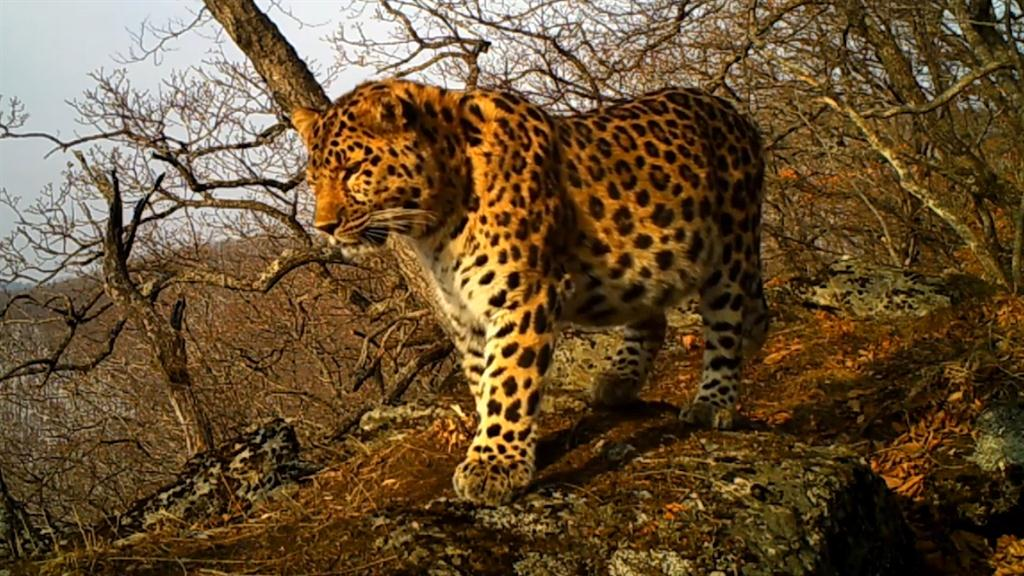amur_leopard: (269, 90, 482, 258)
